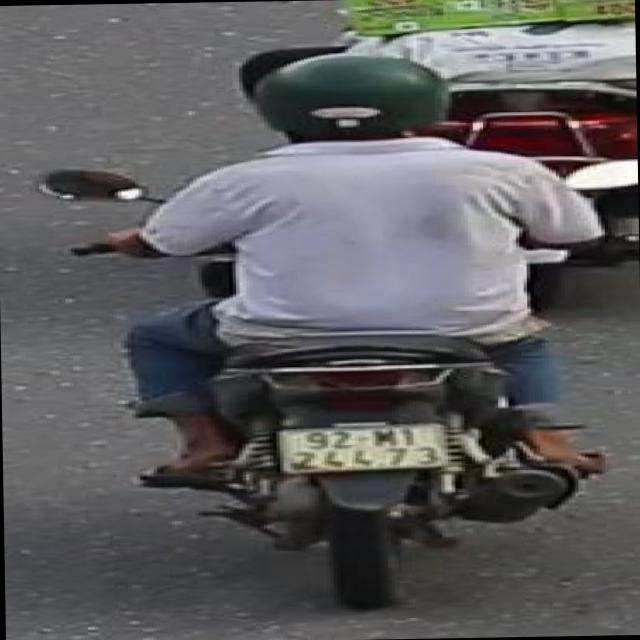LP: (272, 415, 451, 474)
helmet: (242, 49, 456, 161)
